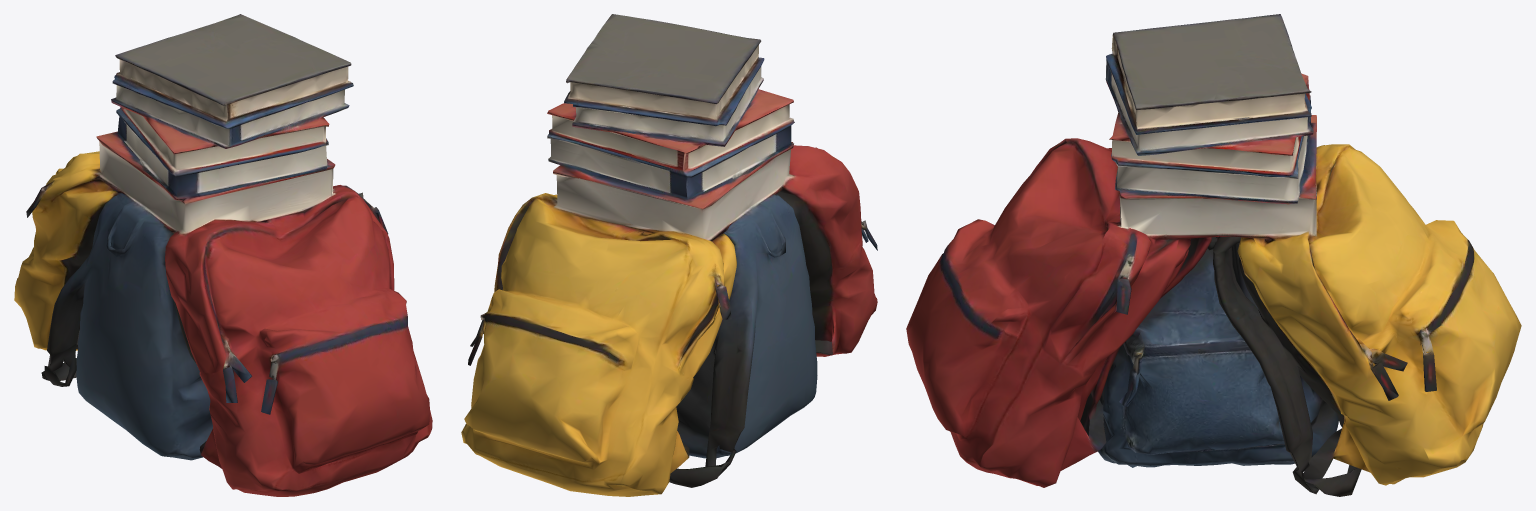
File: dash-bags.glb
3 renders of one model, left to right at view 1: azimuth 30°, elevation 25°; view 2: azimuth 150°, elevation 25°; view 3: azimuth 270°, elevation 25°, orthographic. The views are drawn at different scales.
Visible parts, largest first — view 1: tripo_node_feb7f63b-319e-4dc7-82d5-af62017fb533; view 2: tripo_node_feb7f63b-319e-4dc7-82d5-af62017fb533; view 3: tripo_node_feb7f63b-319e-4dc7-82d5-af62017fb533.
Boxes of the visible parts, left/top/right/bottom form: tripo_node_feb7f63b-319e-4dc7-82d5-af62017fb533: left=14, top=14, right=432, bottom=496; tripo_node_feb7f63b-319e-4dc7-82d5-af62017fb533: left=461, top=14, right=877, bottom=496; tripo_node_feb7f63b-319e-4dc7-82d5-af62017fb533: left=906, top=14, right=1521, bottom=496.
Size of the model in its own units: 0.5218 by 0.702 by 1.
Materials: 1 (1 with a texture image).
